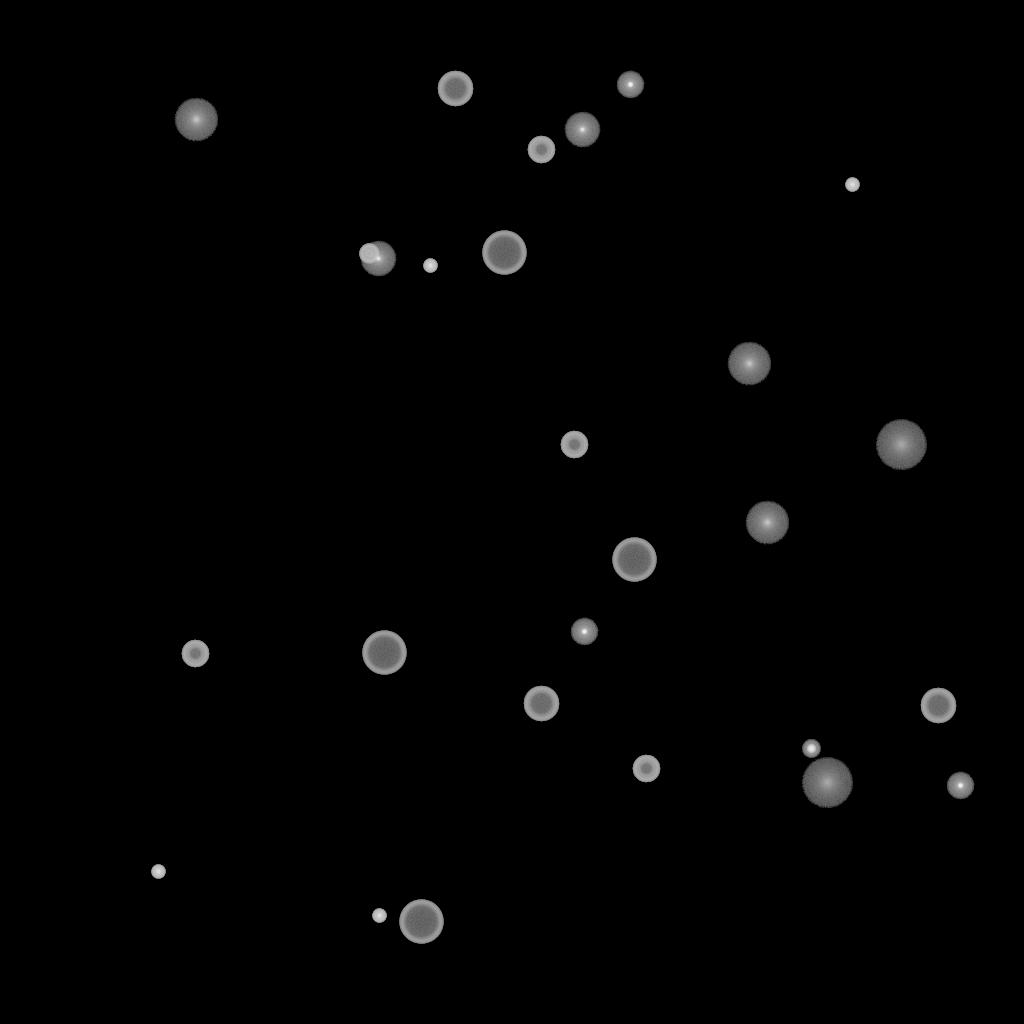depth:-10: (946, 772, 974, 800), (570, 618, 598, 646), (616, 71, 644, 99)
depth:-20: (802, 740, 820, 758)
depth:-30: (151, 865, 165, 879), (423, 259, 437, 273), (372, 909, 386, 923), (845, 178, 859, 192)
depth:-40: (359, 244, 379, 264)
depth:-50: (181, 640, 209, 668), (632, 755, 660, 783), (560, 431, 588, 459), (527, 136, 555, 164)
depth:-60: (437, 71, 473, 107), (920, 688, 956, 724), (523, 686, 559, 722)
depth:-70: (399, 900, 443, 944), (612, 538, 656, 582), (482, 231, 526, 275), (362, 631, 406, 675)
depth:0: (360, 241, 396, 277), (564, 112, 600, 148)
depth:10: (745, 501, 789, 545), (727, 342, 771, 386), (174, 98, 218, 142)
depth:20: (875, 420, 927, 470), (801, 758, 853, 808)
